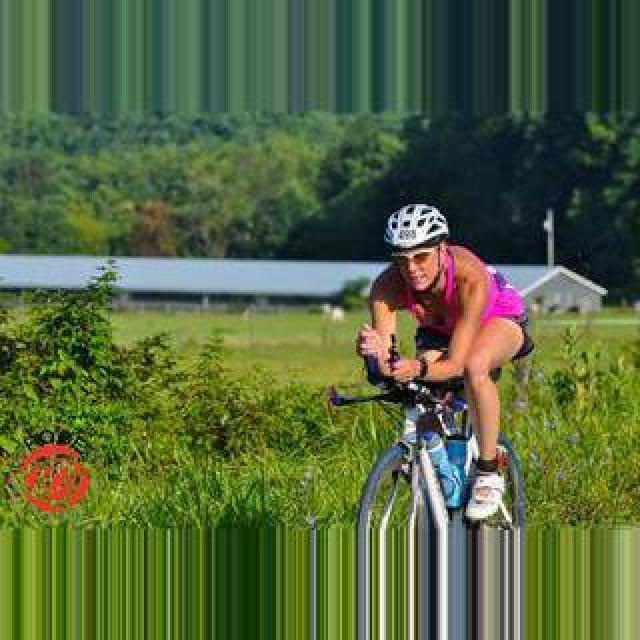MC-Bike: (356, 204, 528, 530)
Person: (329, 374, 527, 528)
